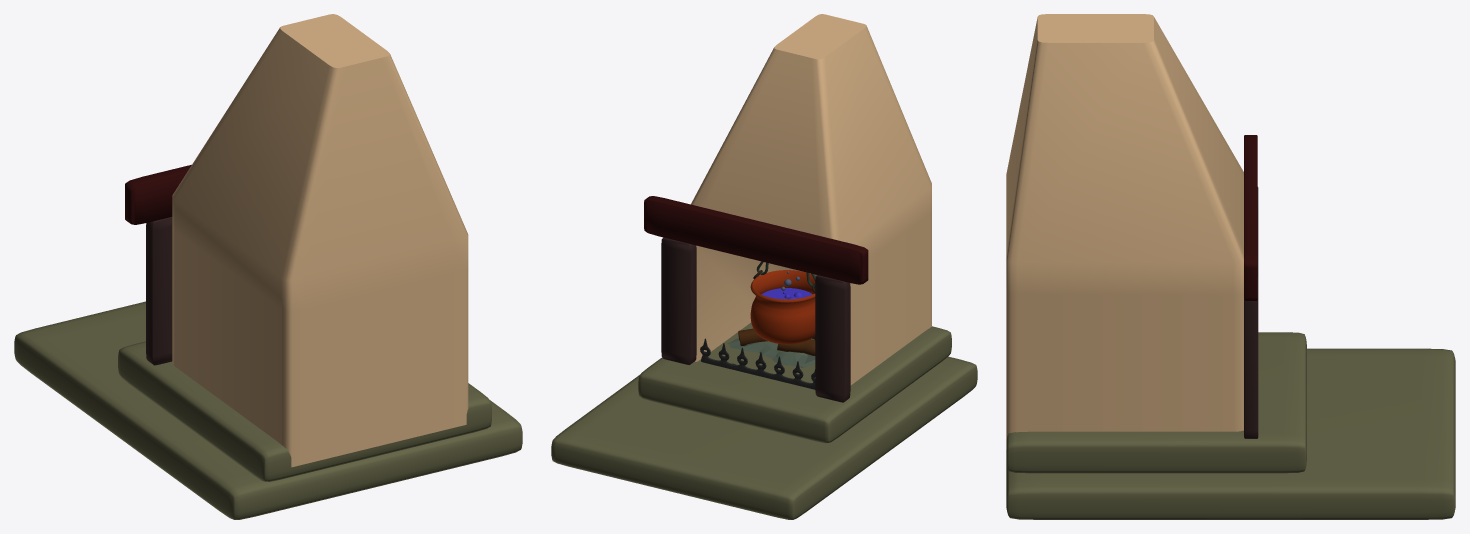
File: fireplace_with_pot.FBX
The picture shows the model from 3 angles, left to right: view 1: azimuth 30°, elevation 25°; view 2: azimuth 150°, elevation 25°; view 3: azimuth 270°, elevation 25°; orthographic projection. The views are drawn at different scales.
Visible parts, largest first — view 1: Fireplace; view 2: Fireplace, Pot_LP; view 3: Fireplace.
Part boxes in pixels (x1=…): Fireplace: x1=14, y1=14, x2=522, y2=519; Fireplace: x1=551, y1=14, x2=977, y2=519; Pot_LP: x1=750, y1=261, x2=815, y2=344; Fireplace: x1=1006, y1=14, x2=1455, y2=519.
Bounding box in the file's own units: 210 × 288 × 278.
